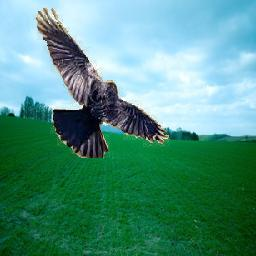Crow: (34, 0, 173, 158)
